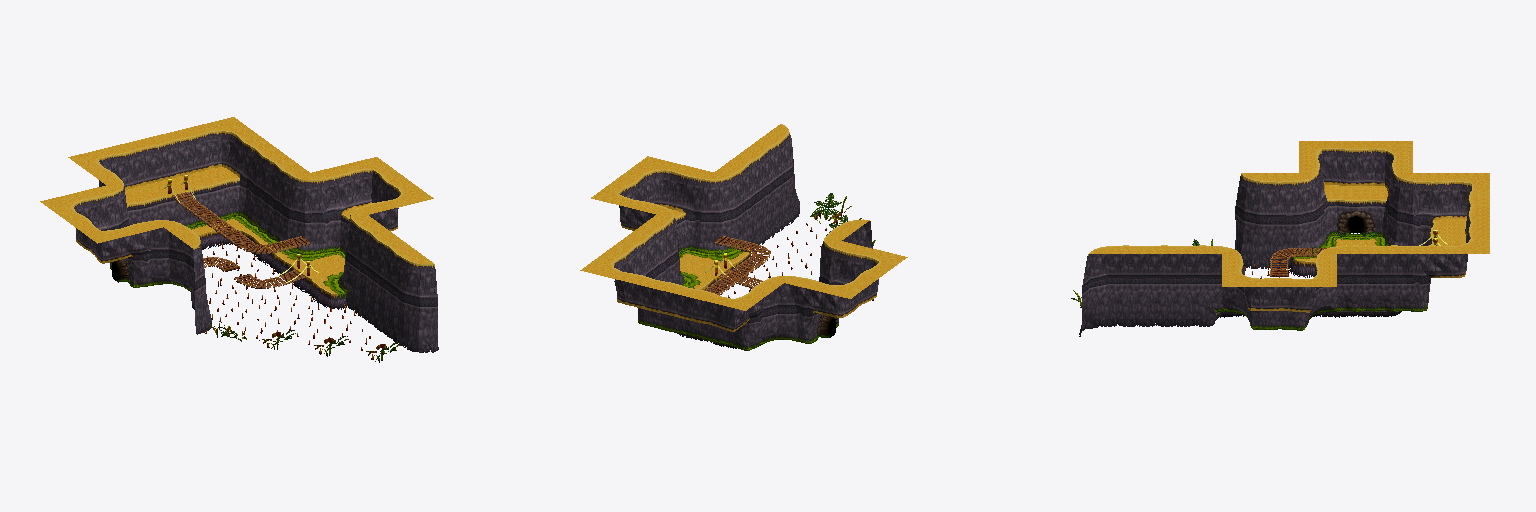
3 renders of one model, left to right at view 1: azimuth 30°, elevation 25°; view 2: azimuth 150°, elevation 25°; view 3: azimuth 270°, elevation 25°, orthographic.
Parts seen in each view (by area): view 1: T5L2M004_67, T5L2M004_34, T5L2M004_35, T5L2M004_58, T5L2M004_62, T5L2M004_65, T5L2M004_17, T5L2M004_9, T5L2M004_29, T5L2M004_26, T5L2M004_3, T5L2M004_28 (+20 smaller); view 2: T5L2M004_51, T5L2M004_52, T5L2M004_65, T5L2M004_62, T5L2M004_12, T5L2M004_58, T5L2M004_11, T5L2M004_26, T5L2M004_28, T5L2M004_53, T5L2M004_5, T5L2M004_17 (+15 smaller); view 3: T5L2M004_37, T5L2M004_62, T5L2M004_65, T5L2M004_58, T5L2M004_17, T5L2M004_26, T5L2M004_5, T5L2M004_47, T5L2M004_18, T5L2M004_19, T5L2M004_29, T5L2M004_67 (+17 smaller).
Part boxes in pixels (bbox=[...]): T5L2M004_67: bbox=[402, 257, 438, 352]; T5L2M004_34: bbox=[280, 173, 328, 263]; T5L2M004_35: bbox=[311, 165, 356, 255]; T5L2M004_58: bbox=[335, 215, 385, 317]; T5L2M004_62: bbox=[364, 229, 405, 331]; T5L2M004_65: bbox=[383, 243, 424, 345]; T5L2M004_17: bbox=[239, 145, 290, 235]; T5L2M004_9: bbox=[221, 131, 271, 221]; T5L2M004_29: bbox=[150, 220, 188, 290]; T5L2M004_26: bbox=[258, 159, 309, 248]; T5L2M004_3: bbox=[168, 125, 219, 180]; T5L2M004_28: bbox=[117, 221, 162, 287]; T5L2M004_51: bbox=[696, 173, 744, 263]; T5L2M004_52: bbox=[668, 165, 713, 255]; T5L2M004_65: bbox=[753, 130, 794, 232]; T5L2M004_62: bbox=[733, 144, 774, 246]; T5L2M004_12: bbox=[759, 276, 798, 345]; T5L2M004_58: bbox=[714, 159, 758, 253]; T5L2M004_11: bbox=[785, 276, 829, 343]; T5L2M004_26: bbox=[638, 215, 680, 284]; T5L2M004_28: bbox=[829, 241, 873, 326]; T5L2M004_53: bbox=[629, 156, 680, 207]; T5L2M004_5: bbox=[742, 279, 783, 350]; T5L2M004_17: bbox=[618, 229, 659, 279]; T5L2M004_37: bbox=[1260, 173, 1298, 270]; T5L2M004_62: bbox=[1145, 245, 1183, 326]; T5L2M004_65: bbox=[1107, 245, 1144, 326]; T5L2M004_58: bbox=[1184, 245, 1221, 326]; T5L2M004_17: bbox=[1375, 245, 1412, 311]; T5L2M004_26: bbox=[1337, 245, 1374, 311]; T5L2M004_5: bbox=[1413, 173, 1451, 245]; T5L2M004_47: bbox=[1235, 173, 1259, 270]; T5L2M004_18: bbox=[1337, 141, 1374, 191]; T5L2M004_19: bbox=[1337, 192, 1374, 242]; T5L2M004_29: bbox=[1299, 173, 1336, 258]; T5L2M004_67: bbox=[1079, 246, 1106, 336].
Bounding box in the file's own units: 36 × 9.69 × 43.88.
1 materials, 1 textured.